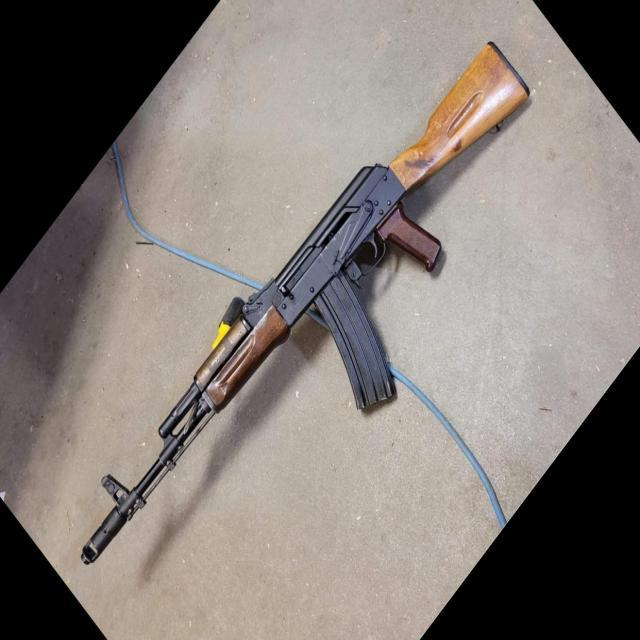weapon: (81, 40, 531, 565)
